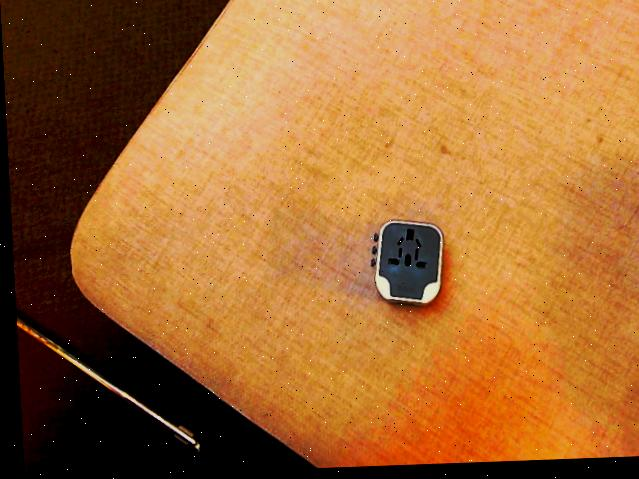adapter: (365, 221, 444, 310)
